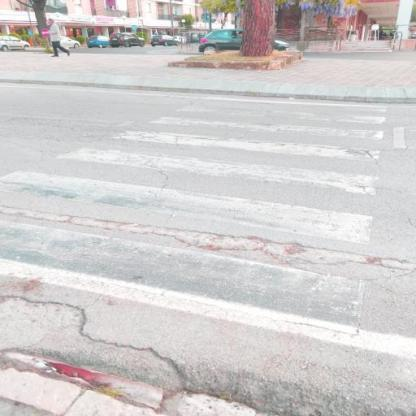crosswalk: (0, 145, 388, 247)
